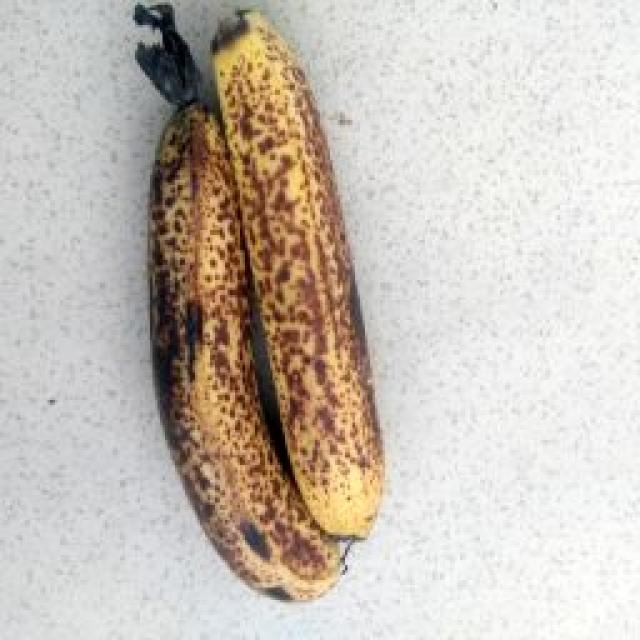banana: (163, 76, 584, 640)
